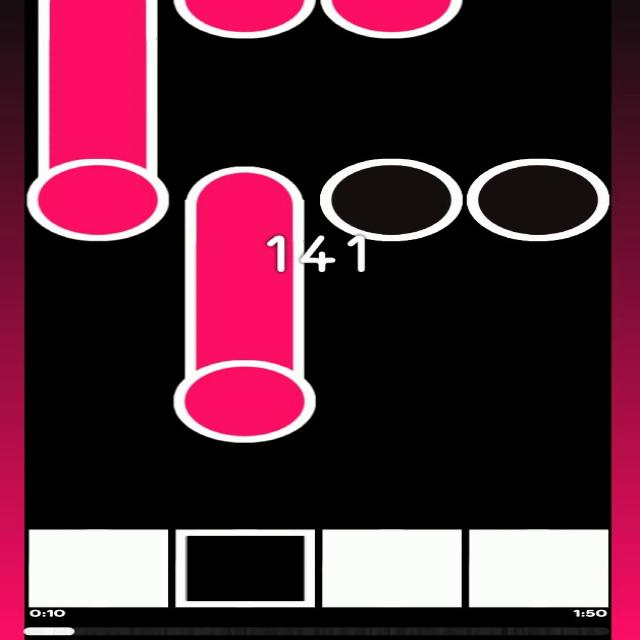end_hold: (186, 152, 304, 219)
note: (322, 158, 463, 243), (470, 158, 610, 242)
start_hold: (173, 339, 316, 444), (26, 142, 168, 242), (322, 0, 466, 40), (168, 0, 316, 38)
